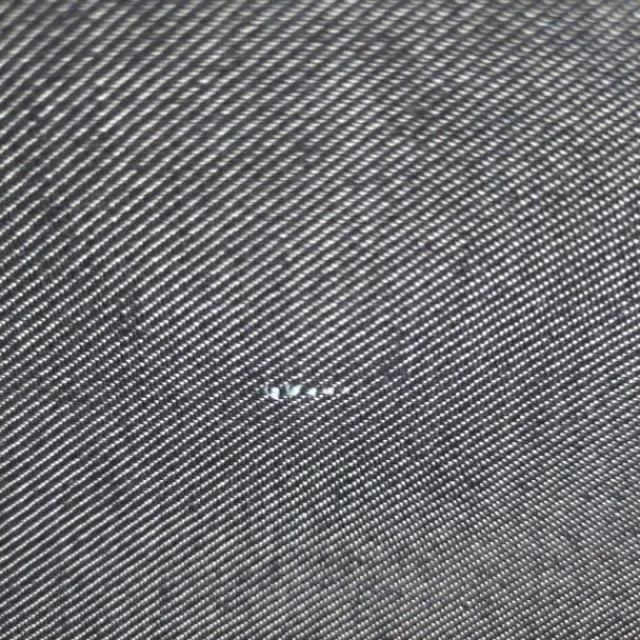Knot: (263, 385, 351, 401)
